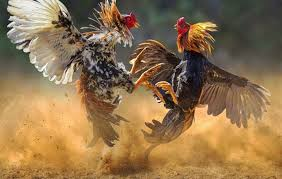Gà/Chicken: (145, 12, 272, 167), (33, 2, 139, 156)
